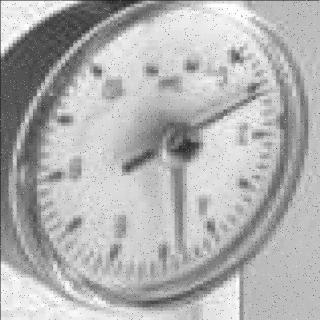gauge: (0, 0, 320, 308), (210, 24, 252, 76), (159, 121, 204, 168), (76, 44, 116, 93), (171, 236, 193, 260), (255, 83, 275, 105)
